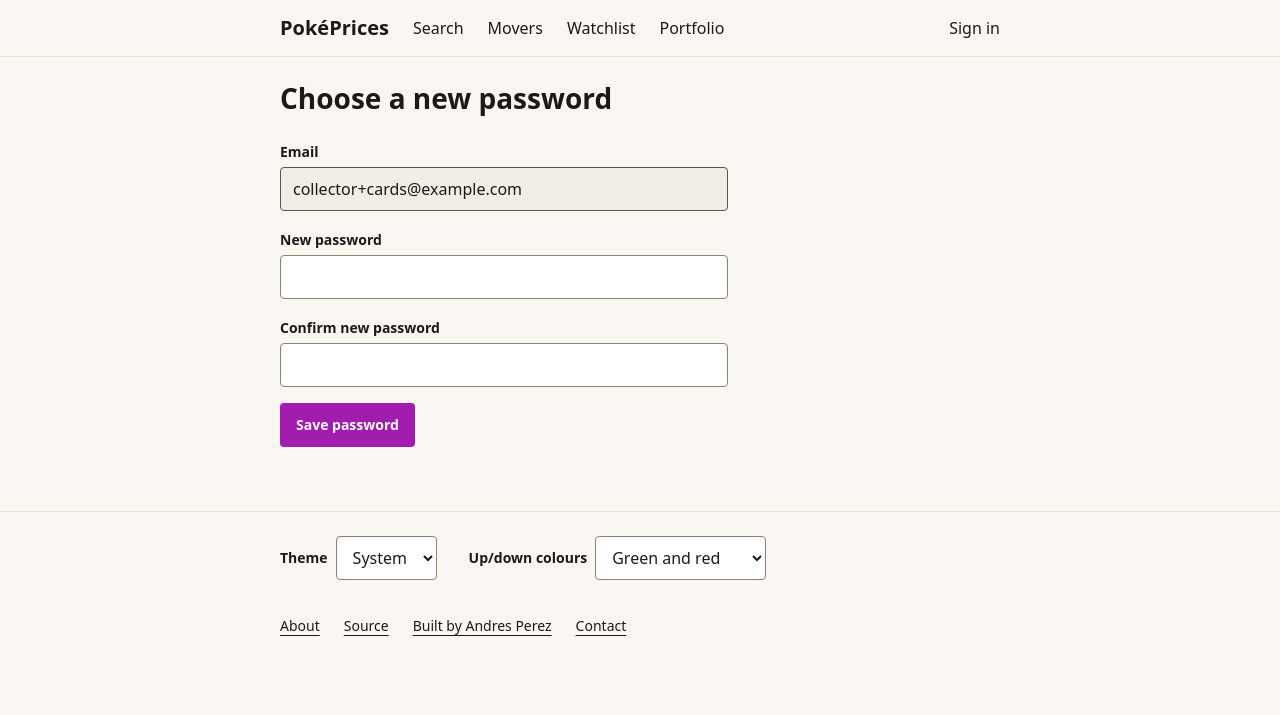
the reset-password page (T03 criterion 3, D10) › saves the password and lands on /sign-in with its status
The width and height of the screenshot is (1280, 715).
Type "fake-password-0000-ok" into the password field labelled "New password".
click(504, 277); type("fake-password-0000-ok")  # box top-left (280, 255), bottom-right (728, 299)
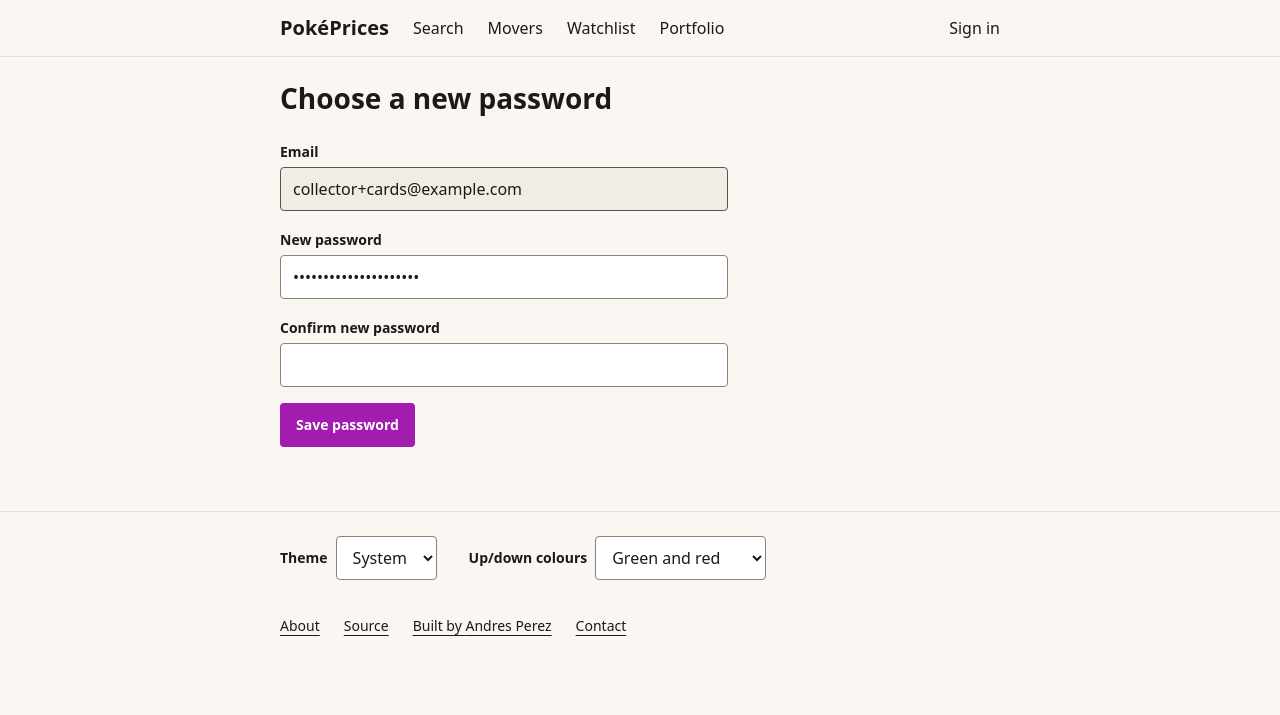
Type "fake-password-0000-ok" into the password field labelled "Confirm new password".
click(504, 365); type("fake-password-0000-ok")  # box top-left (280, 343), bottom-right (728, 387)
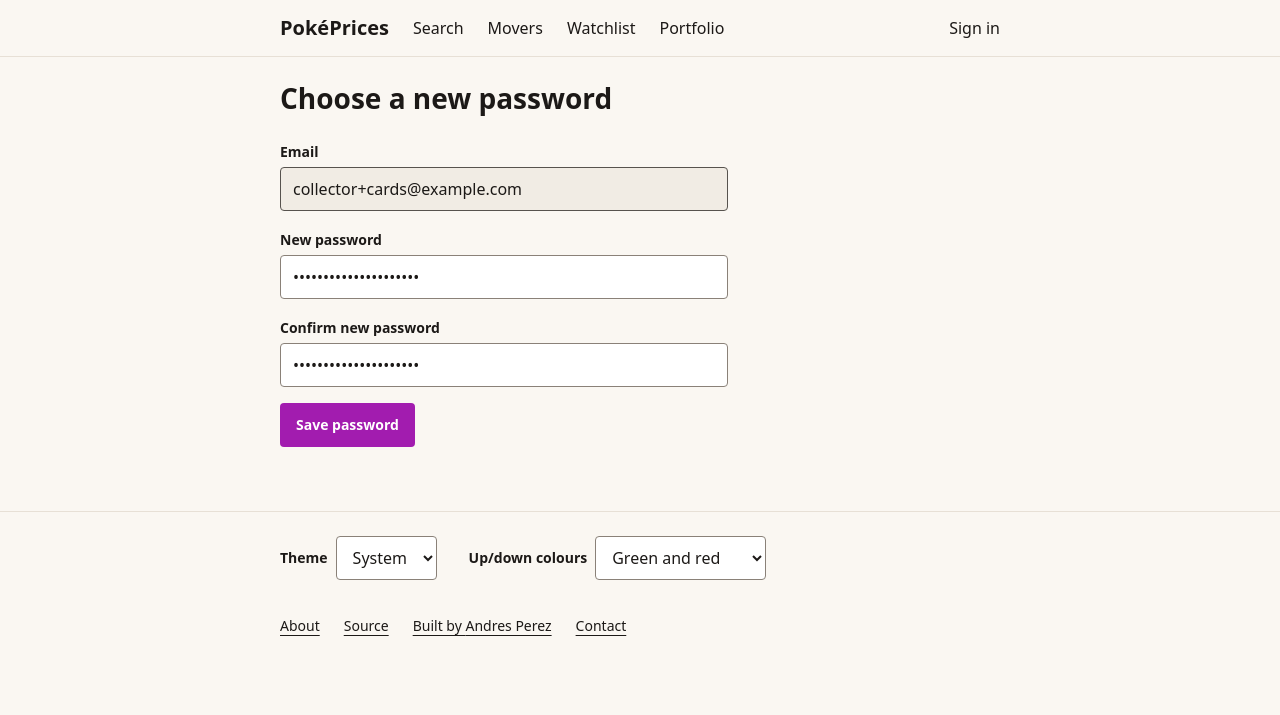
Click the button "Save password".
click(347, 425)  # box top-left (280, 403), bottom-right (415, 447)
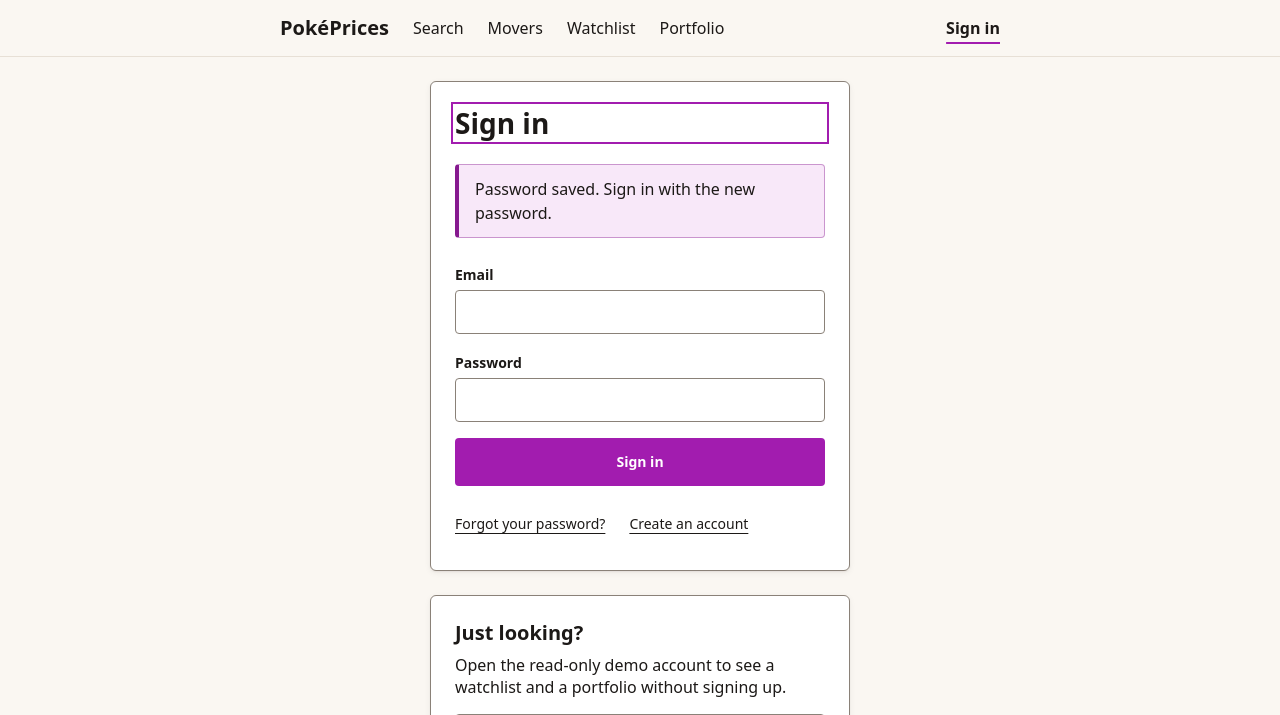
Expected: the text "Password saved. Sign in with the new password." is shown, top-left (455, 164), bottom-right (825, 238)
